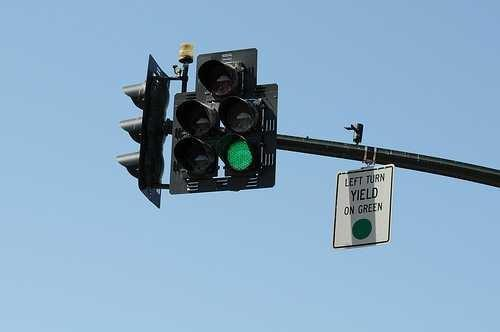3: (175, 100, 216, 138), (175, 142, 212, 178)
4: (173, 99, 218, 182)
red traffic light: (222, 136, 257, 173)
